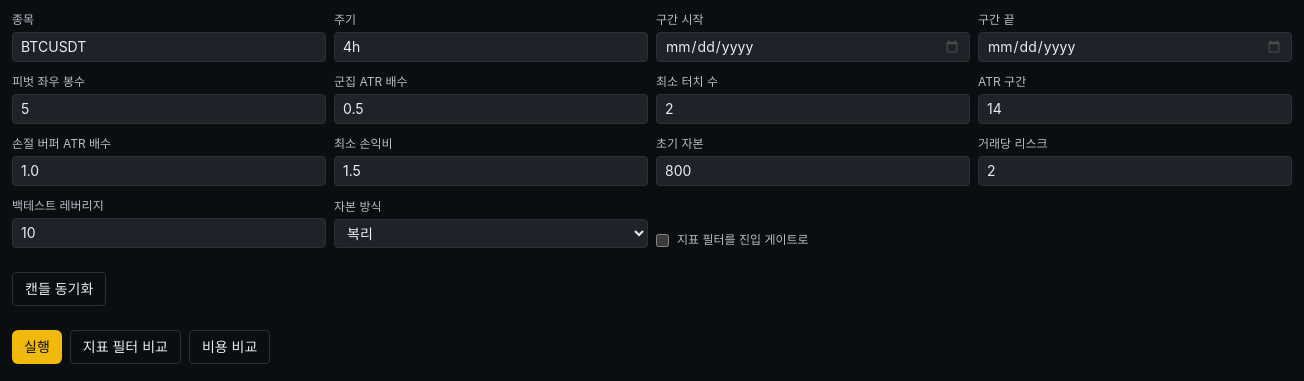
it: 백테스트 › 캔들 동기화가 이 화면에 있다
캔들을 넣는 길이 화면에 없으면 브라우저만으로는 백테스트를 한 번도 돌릴 수 없다.
Click the button "캔들 동기화" at (59,289), box [12,272,106,306]
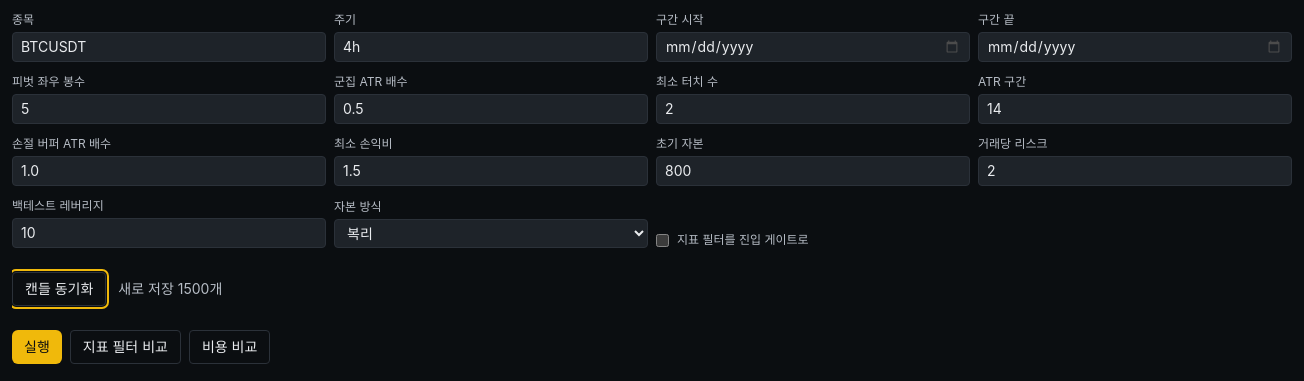
Expected: the text "새로 저장 1500개" is shown, [118,279,222,299]
